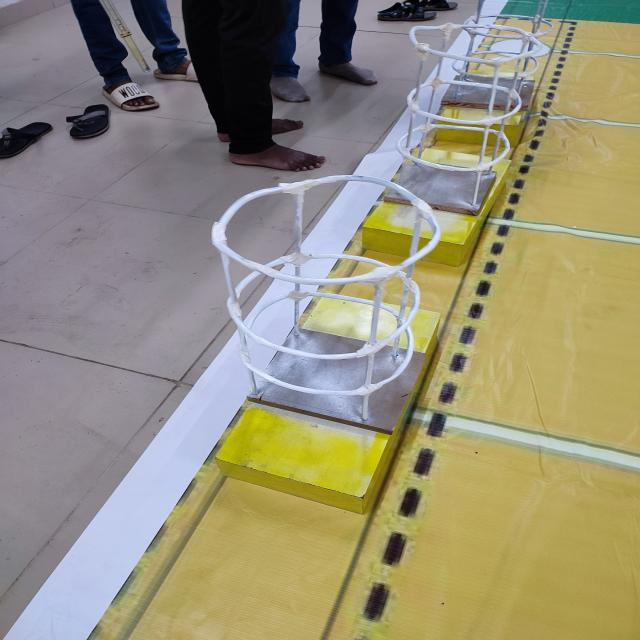silo: (191, 163, 461, 460), (380, 13, 557, 235)
